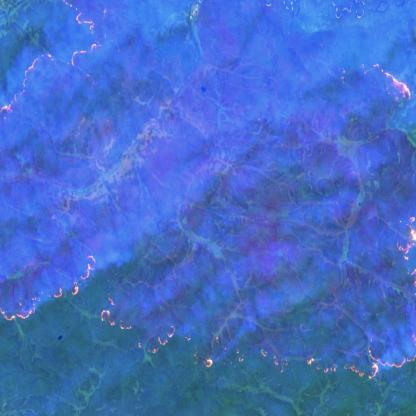fire: (100, 292, 340, 375), (343, 211, 416, 387), (1, 0, 103, 121), (0, 245, 98, 329), (359, 57, 416, 108)
